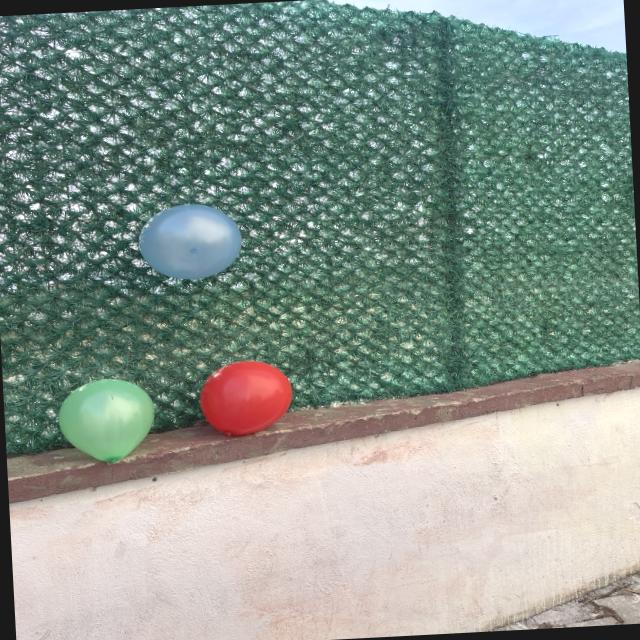balloon: (59, 379, 154, 462), (139, 204, 241, 279), (200, 361, 292, 435)
